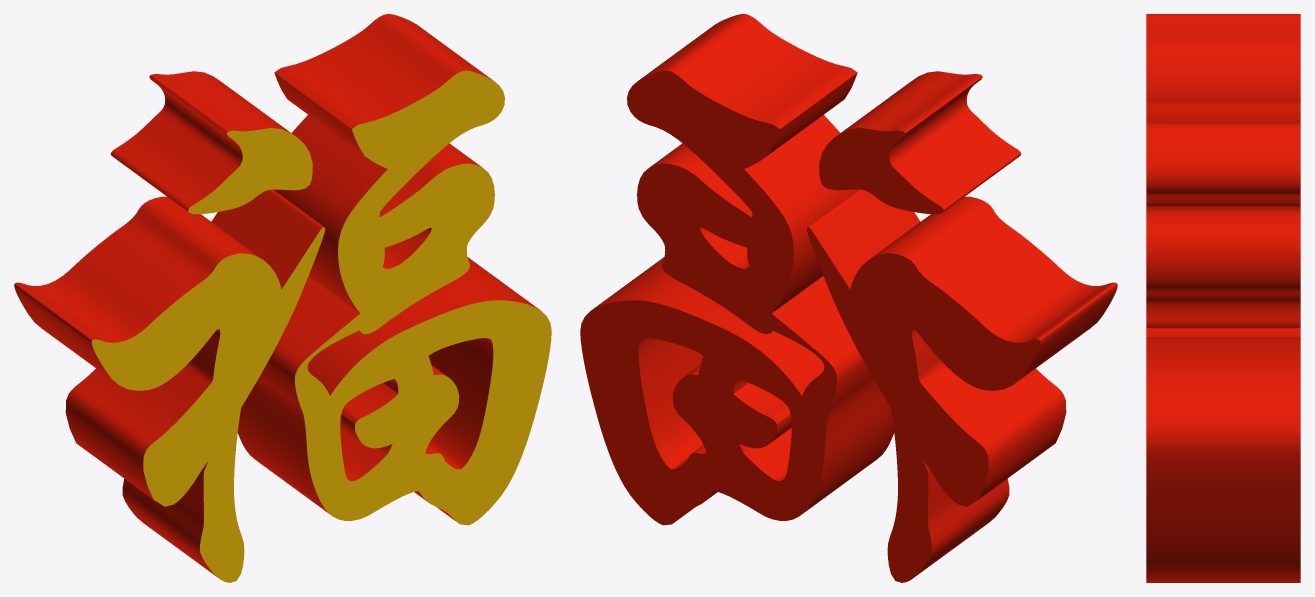
The picture shows the model from 3 angles, left to right: view 1: azimuth 30°, elevation 25°; view 2: azimuth 150°, elevation 25°; view 3: azimuth 270°, elevation 25°; orthographic projection.
Visible parts, largest first — view 1: Fu_0; view 2: Fu_0; view 3: Fu_0.
Boxes of the visible parts, bbox=[...] form: Fu_0: bbox=[14, 14, 551, 582]; Fu_0: bbox=[580, 14, 1117, 582]; Fu_0: bbox=[1146, 14, 1300, 582].
Size of the model in its own units: 0.7469 by 0.7072 by 0.2179.
